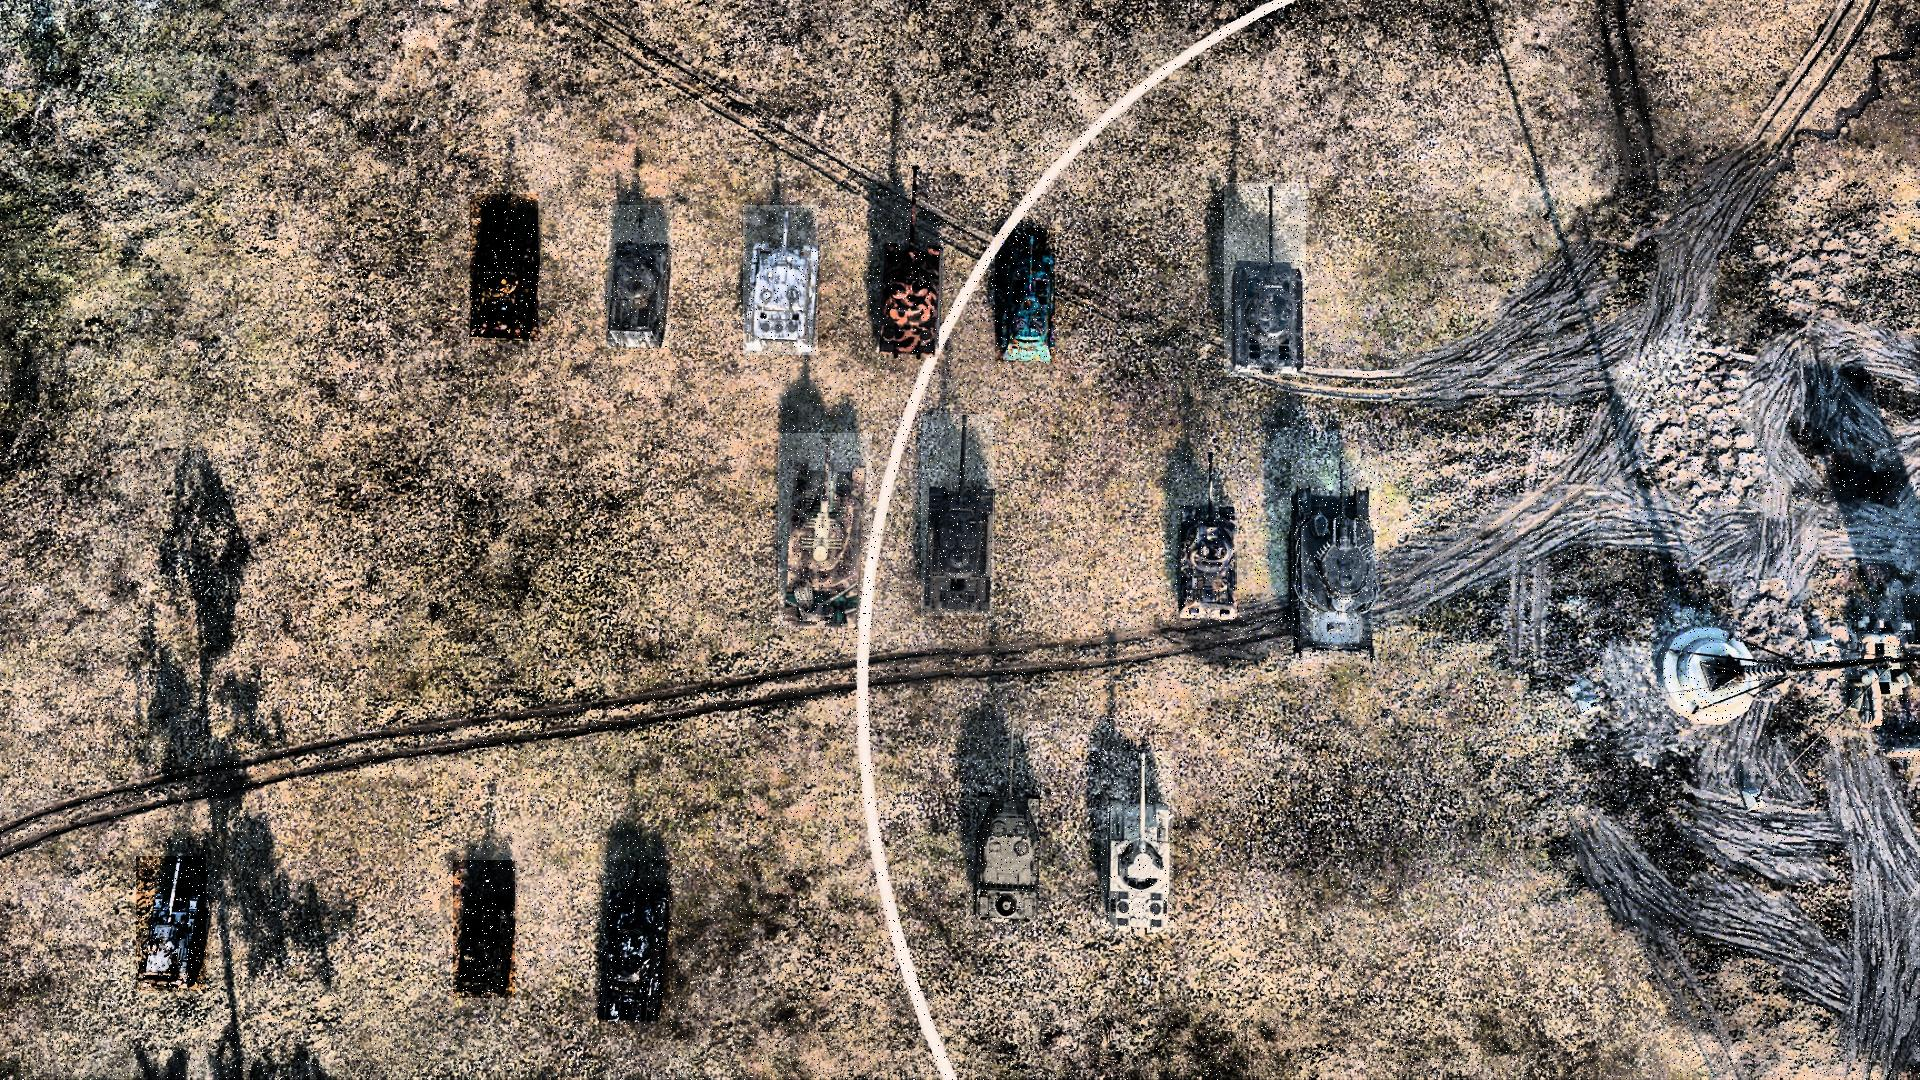military-vehicle: (778, 434, 872, 628), (1292, 459, 1379, 663), (967, 721, 1044, 930), (1225, 183, 1307, 377), (922, 415, 994, 617), (1101, 752, 1175, 936), (595, 860, 674, 1025), (878, 165, 942, 357), (744, 204, 819, 355), (1172, 452, 1237, 624), (469, 195, 538, 342), (137, 857, 207, 992), (607, 206, 673, 348), (454, 860, 516, 998), (996, 228, 1055, 361)
